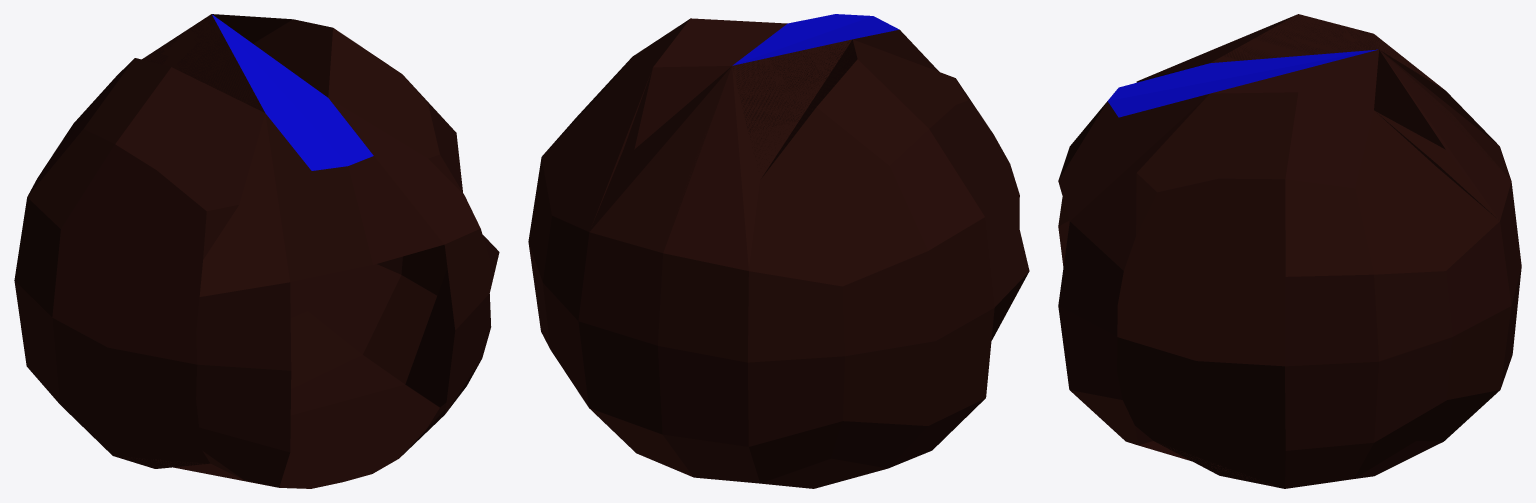
The model's file is EnemyBase.fbx.
3 views of the same model, side by side, from view 1: azimuth 30°, elevation 25°; view 2: azimuth 150°, elevation 25°; view 3: azimuth 270°, elevation 25° (orthographic). The views are drawn at different scales.
Visible parts, largest first — view 1: Cube; view 2: Cube; view 3: Cube.
Part boxes in pixels (x1,y1,x2,y2): Cube: (14,14,499,488); Cube: (528,14,1029,488); Cube: (1058,14,1521,488).
Size of the model in its own units: 360 by 327 by 353.
